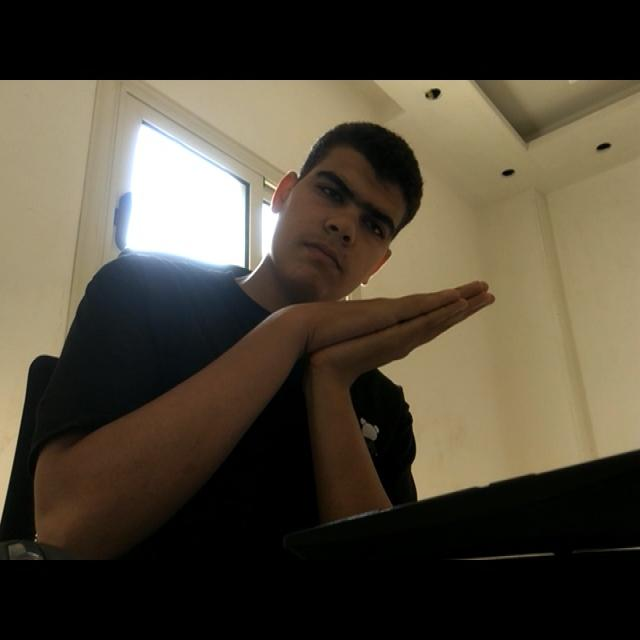Please: (203, 263, 542, 402)
